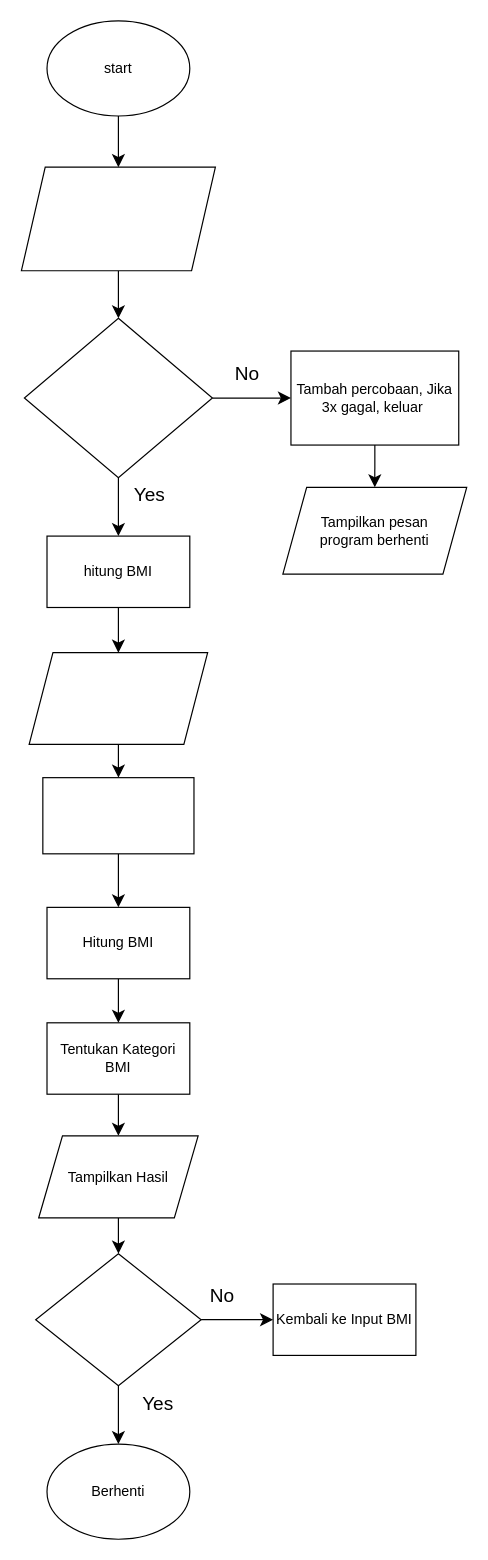
This 488x1560 diagram has some shape labels left out. The box of each missing label's shape, as (x1, y1, x2, y2) in pixels:
Apakah ingin keluar? (y/n): (35, 1252, 201, 1386)
Apakah username & password benar?: (23, 317, 212, 478)
Input berat (mg) dan tinggi (km): (28, 652, 208, 744)
Input username dan password: (20, 166, 215, 271)
Konversi ke kg dan m: (42, 776, 194, 854)
